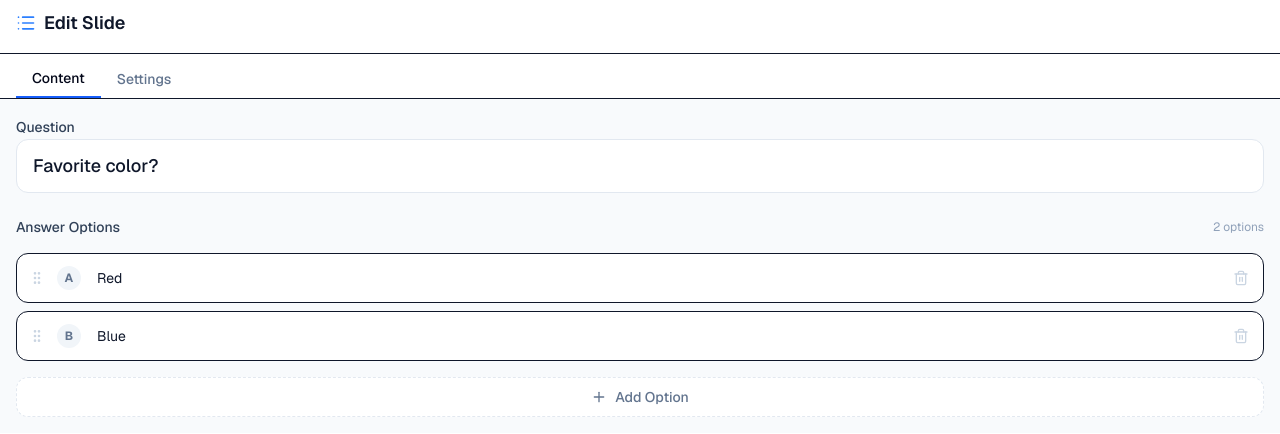
Scenario: SlideEditorPanel › option label generation › updates labels when options are removed
What coordinates should you click on to do the following:
click the 2nd button
I would click on:
 (1241, 278)
Its box is 1227,264 -> 1255,292.
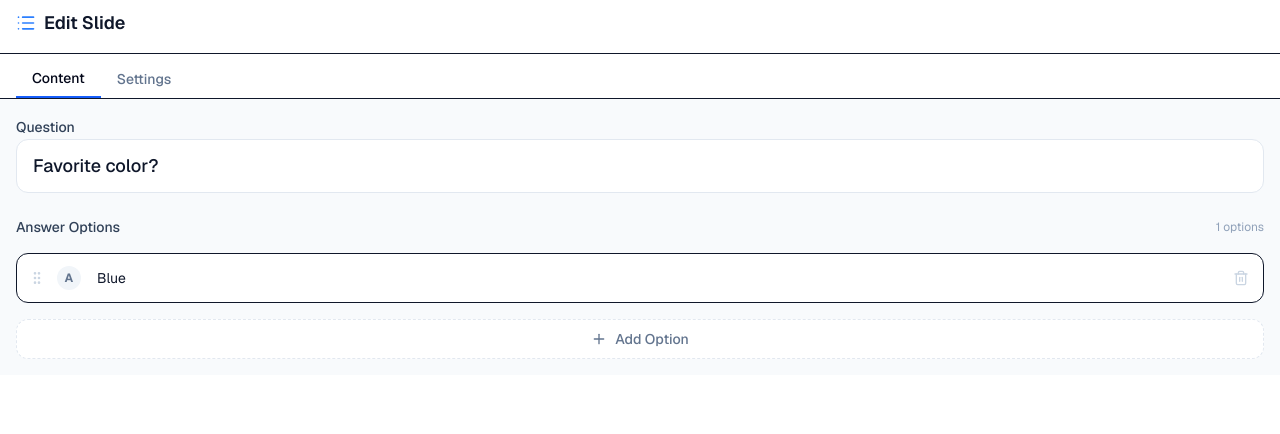
Result: the text "A" is shown once at 57,266 -> 81,290
